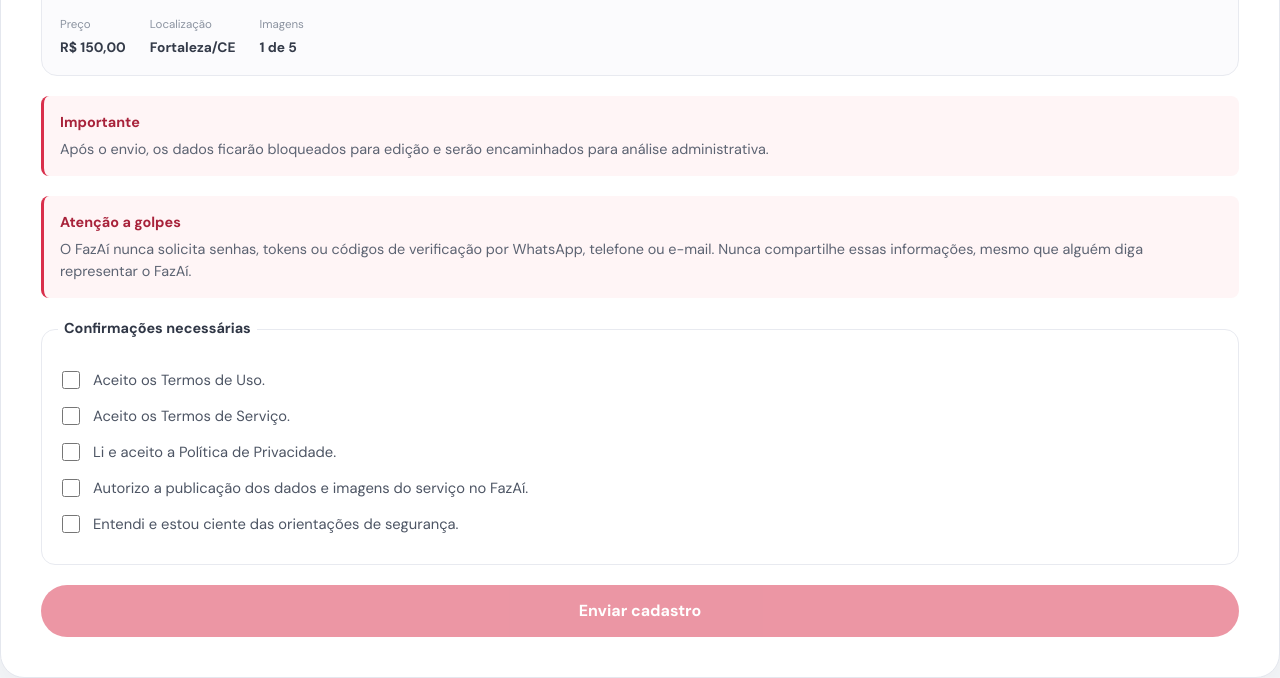
Scenario: pre-registration review step › shows the exact provider, service, price, Fortaleza and image data before sending
(page scrolled)
expect the text "R$ 150,00" is shown: met, box [60,36,126,57]
expect the text "Fortaleza/CE" is shown: met, box [150,36,236,57]
Step 1. Click the checkbox labelled "Aceito os Termos de Uso." → (71, 380), box [62,371,80,389]
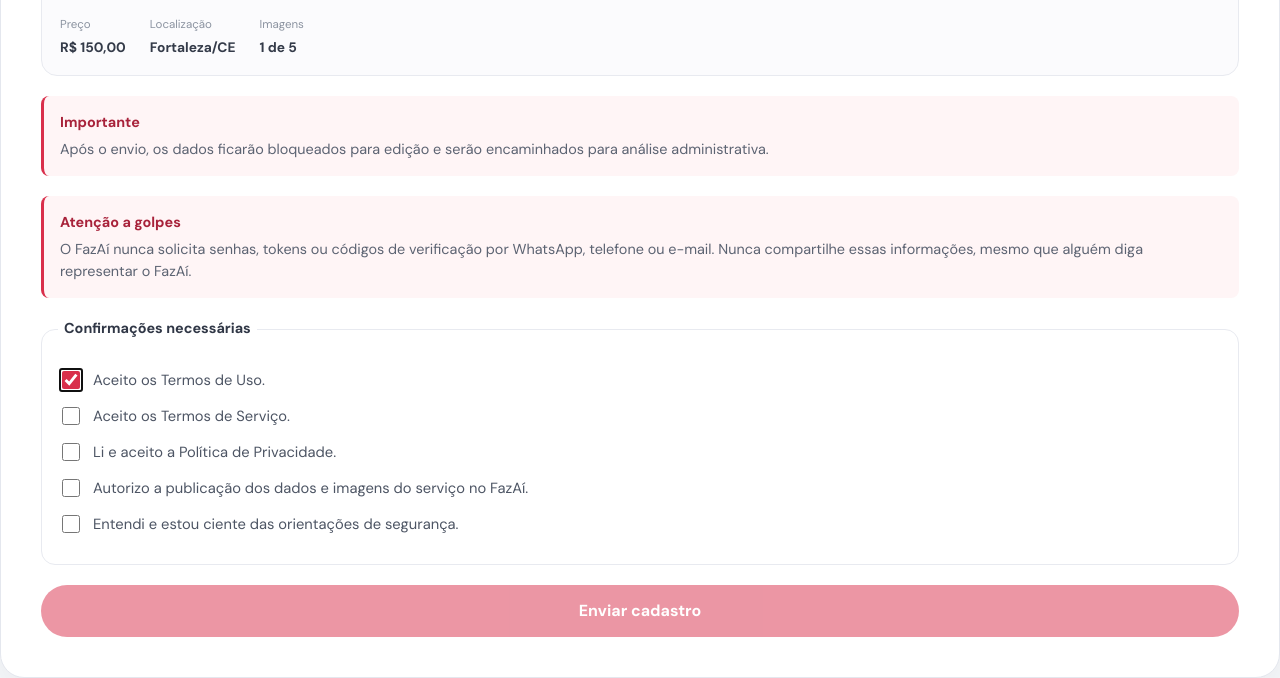
Step 2. Click the checkbox labelled "Aceito os Termos de Serviço." → (71, 416), box [62,407,80,425]
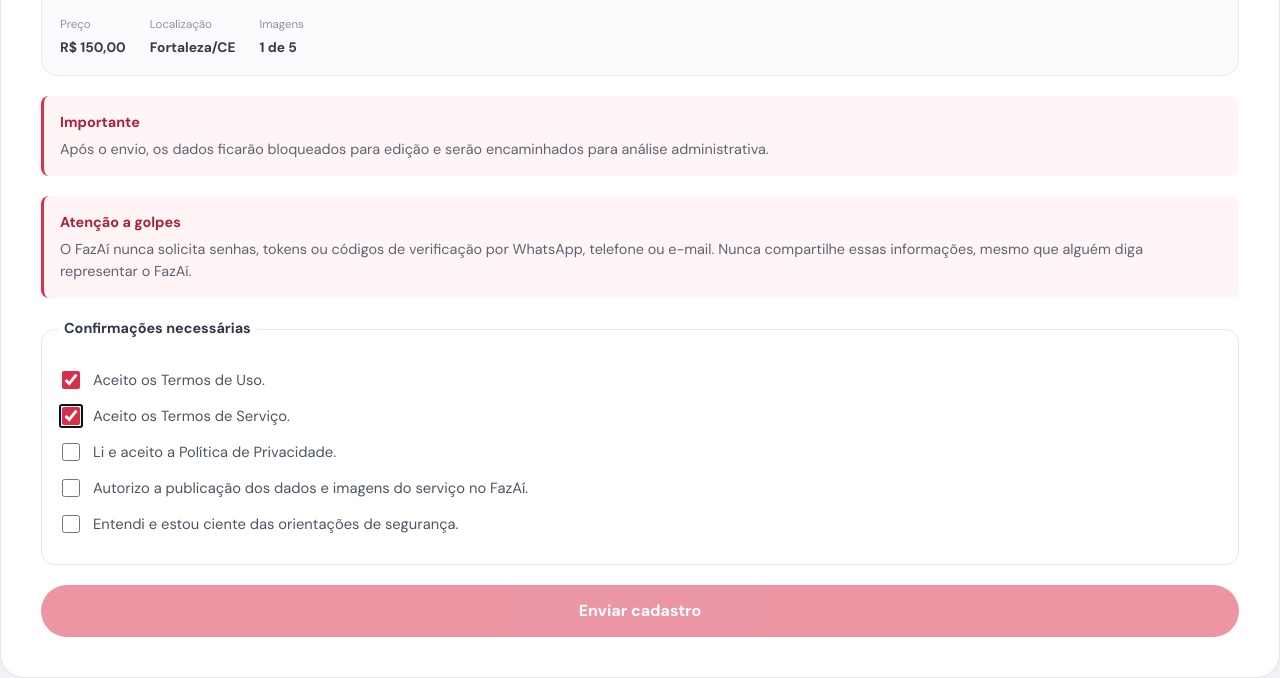
Step 3. Click the checkbox labelled "Li e aceito a Política de Privacidade." → (71, 452), box [62,443,80,461]
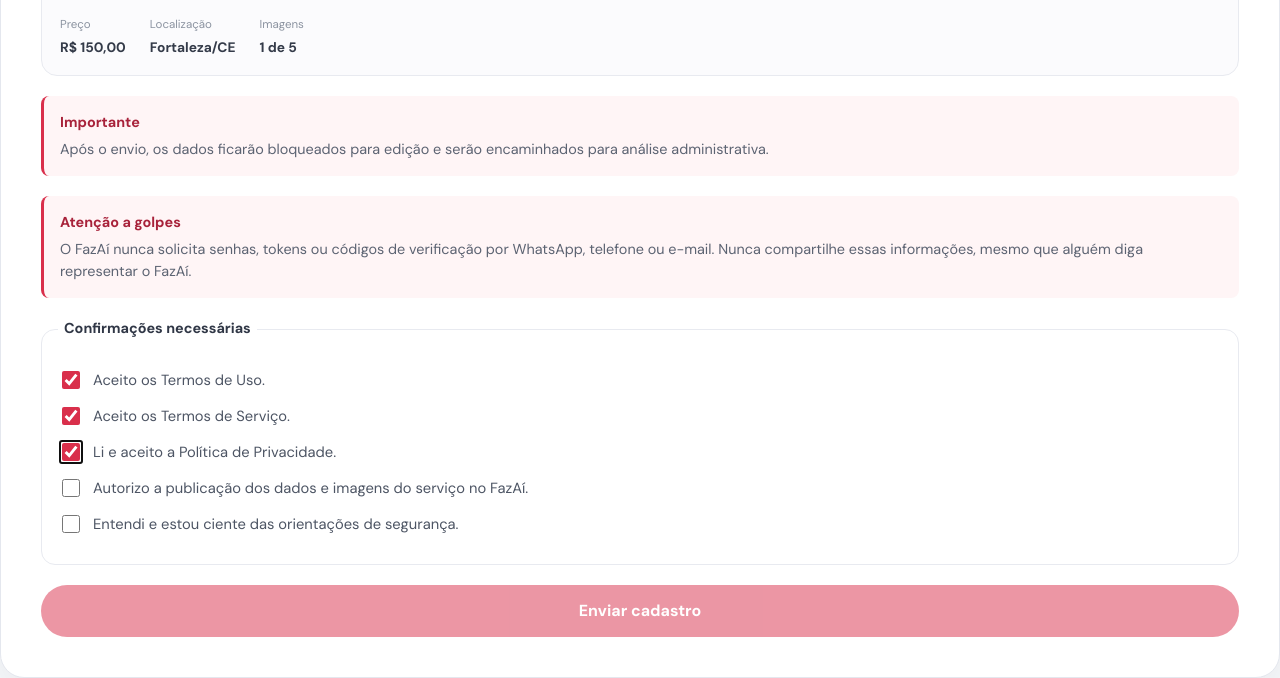
Step 4. Click the 4th checkbox → (71, 488), box [62,479,80,497]
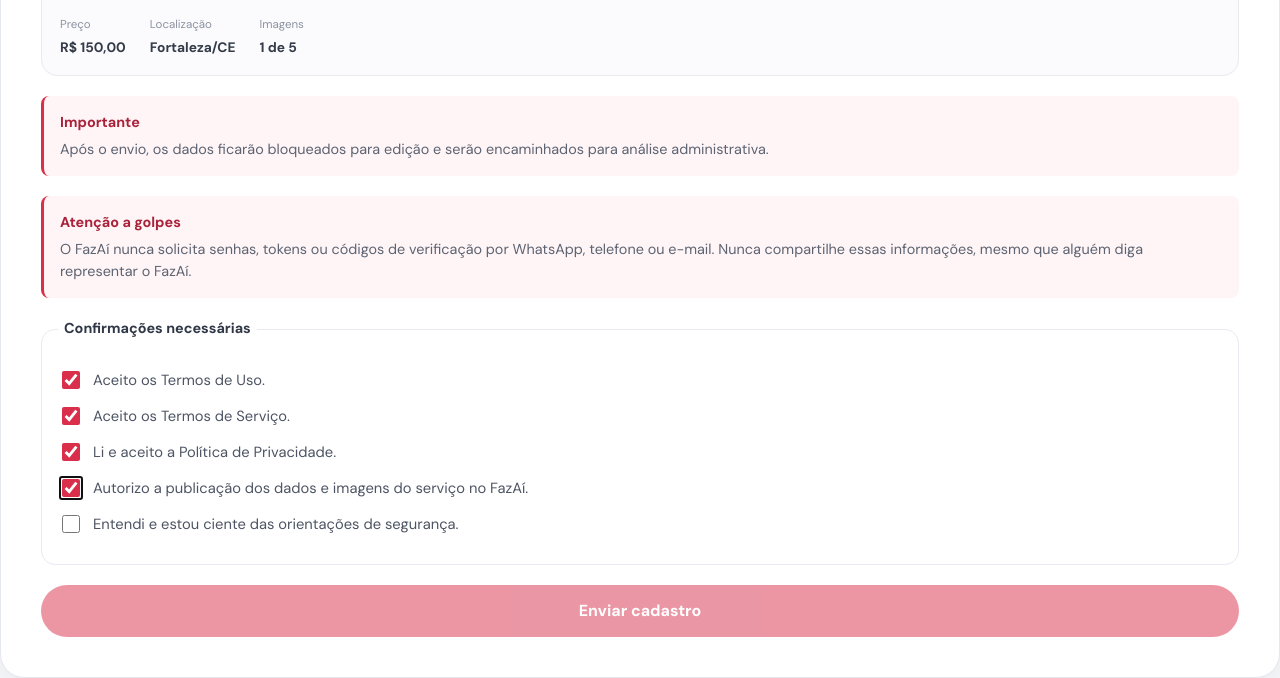
Step 5. Click the checkbox labelled "Entendi e estou ciente das orientações de segurança." → (71, 524), box [62,515,80,533]
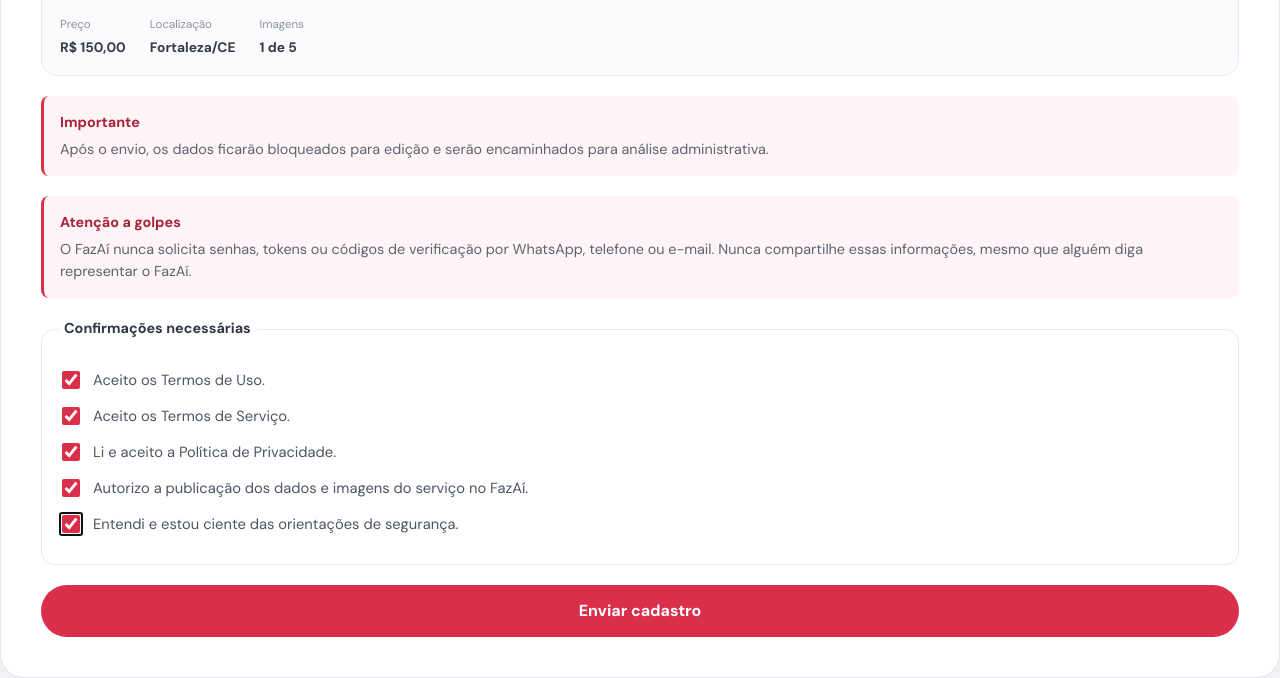
expect the button "Enviar cadastro" is enabled: met, box [41,585,1239,637]
